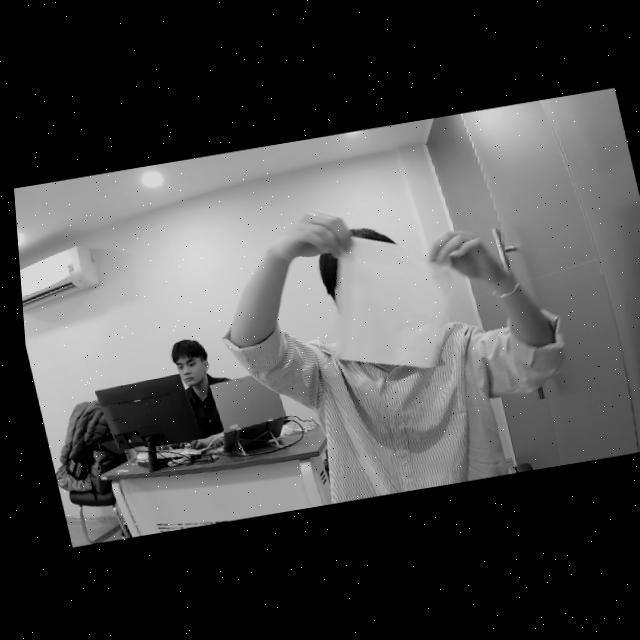face: (170, 342, 217, 392)
